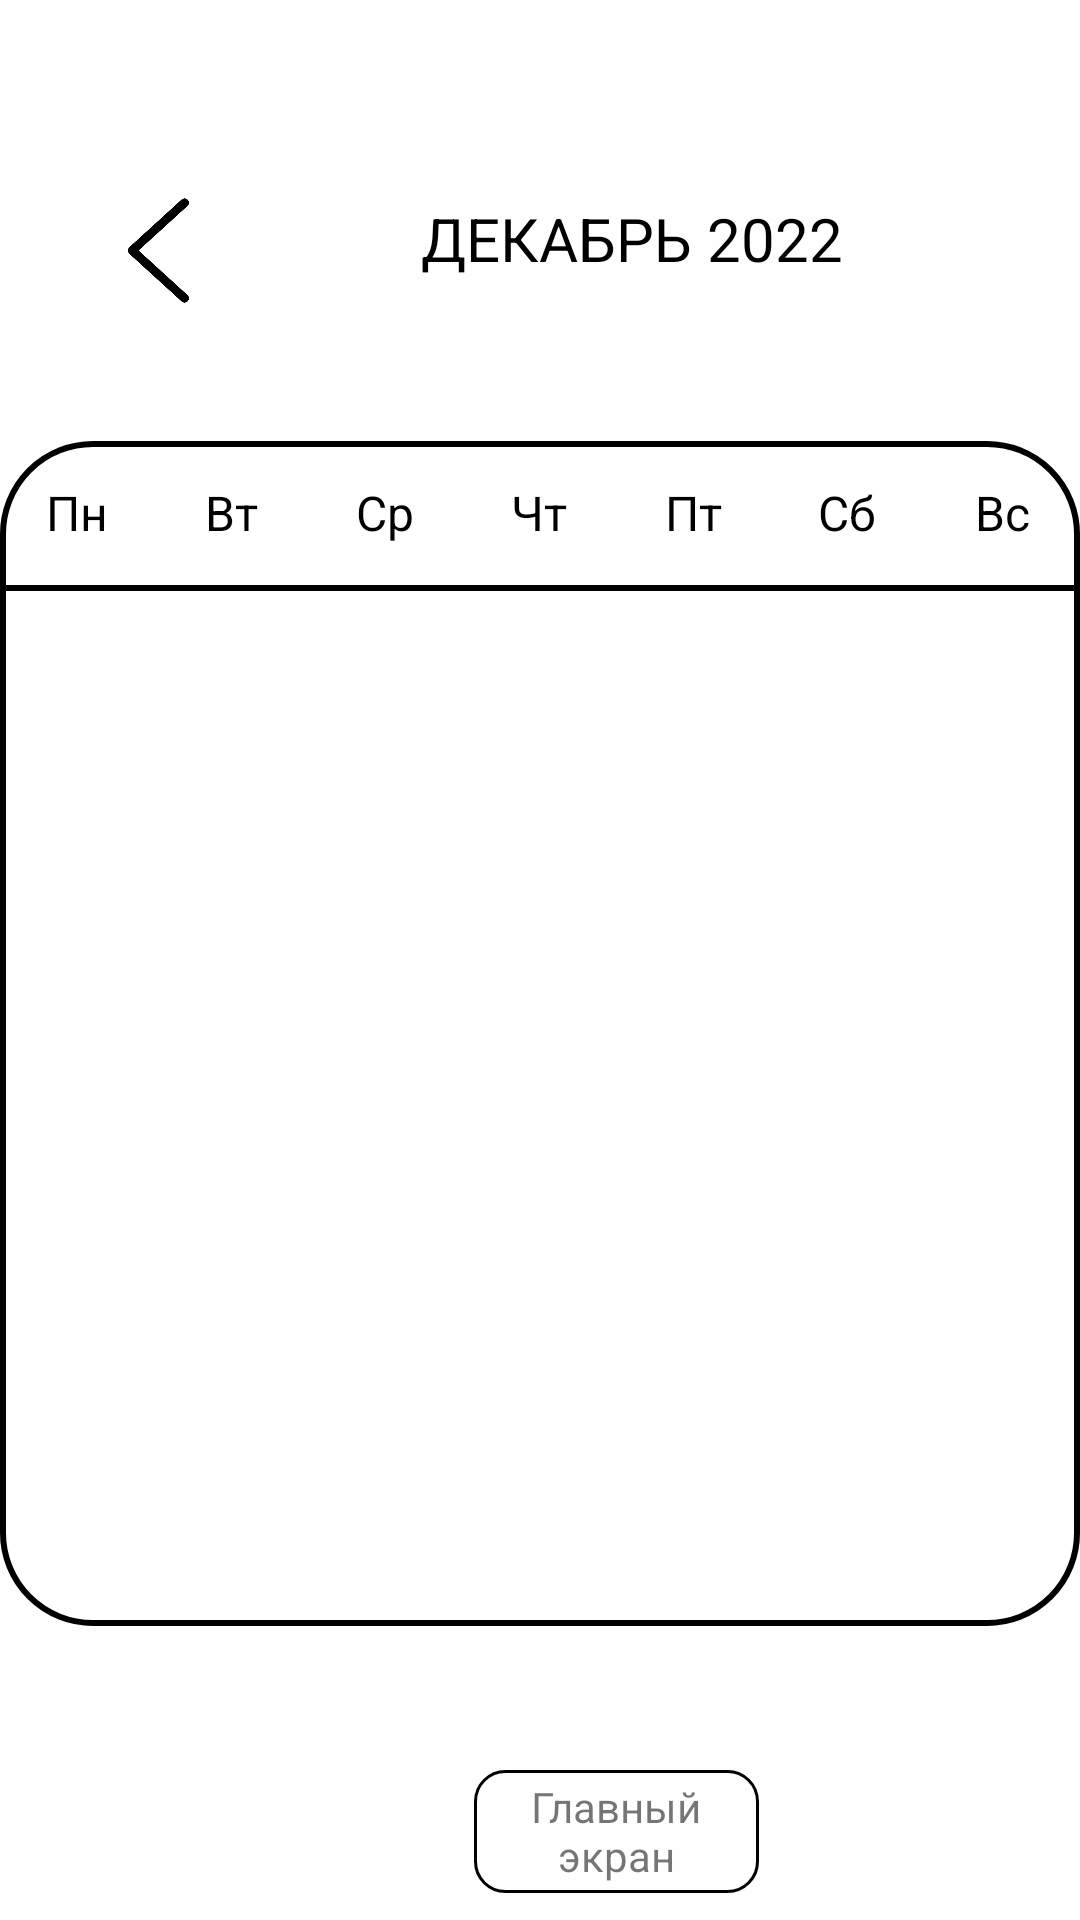

Named icons in this screenshot (1080w x 1920h) and their centers, [x,y]:
obratno: [158,250]
